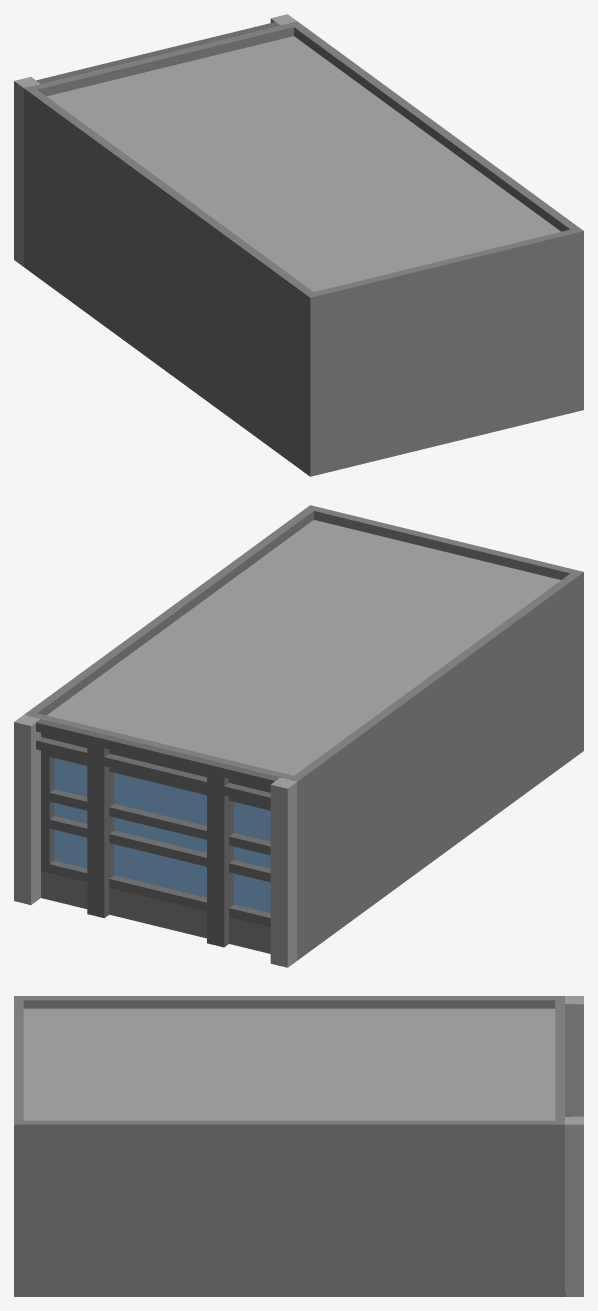
File: obj_story05.fbx
3 views of the same model, one above another, from view 1: azimuth 30°, elevation 25°; view 2: azimuth 150°, elevation 25°; view 3: azimuth 270°, elevation 25° (orthographic). The views are drawn at different scales.
Visible parts, largest first — view 1: obj_story05; view 2: obj_story05; view 3: obj_story05.
Boxes of the visible parts, x1,y1,x2,y2 form: obj_story05: (14,14,583,476); obj_story05: (14,505,583,967); obj_story05: (14,996,583,1296).
Size of the model in its own units: 3.2 by 6 by 2.
Materials: 1 (1 with a texture image).
